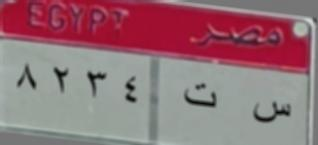2: (50, 61, 75, 100)
3: (81, 68, 111, 104)
4: (117, 70, 148, 107)
8: (9, 60, 42, 95)
seen: (245, 90, 295, 133)
taa: (179, 79, 221, 115)
